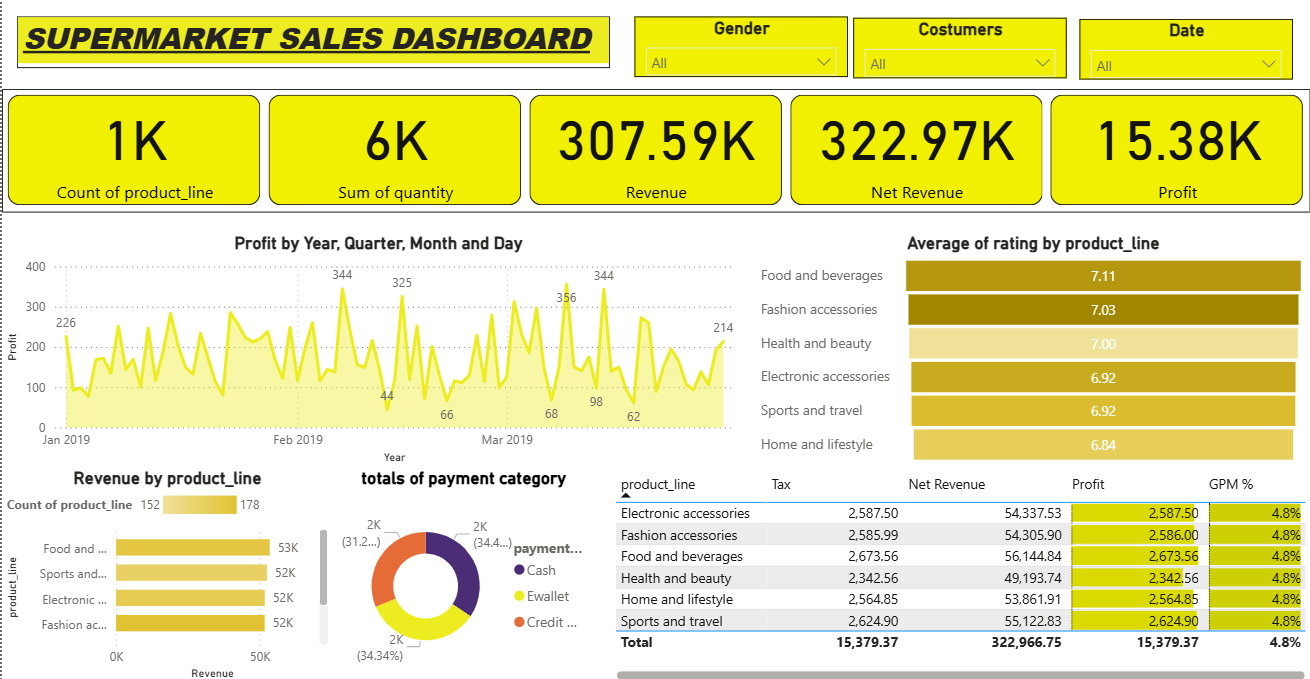

The page's visual inventory and layout, read from the dashboard file:
{"tool":"powerbi","page":{"name":"Page 1","canvas":[1280,720],"ordinal":0},"visuals":[{"type":"tableEx","fields":{"Values":["supermarket_sales.product_line","supermarket_sales.Tax","supermarket_sales.Net Revenue","supermarket_sales.Profit","supermarket_sales.GPM %"]},"box":[594.2,507.7,686.1,212.7],"z":0},{"type":"actionButton","box":[0,0,100,40],"z":1000},{"type":"donutChart","title":"totals of payment category","fields":{"Y":["Sum(supermarket_sales.quantity)"],"Category":["supermarket_sales.payment_method"]},"box":[323.8,507.7,255.2,212.7],"z":2000},{"type":"barChart","fields":{"Category":["supermarket_sales.product_line"],"Y":["supermarket_sales.Revenue"]},"box":[0,507.7,323.8,212.7],"z":3000},{"type":"areaChart","fields":{"Y":["supermarket_sales.Profit"],"Category":["supermarket_sales.date.Variation.Date Hierarchy.Year","supermarket_sales.date.Variation.Date Hierarchy.Quarter","supermarket_sales.date.Variation.Date Hierarchy.Month","supermarket_sales.date.Variation.Date Hierarchy.Day"]},"box":[0,277.2,736.9,230.5],"z":4000},{"type":"funnel","fields":{"Category":["supermarket_sales.product_line"],"Y":["Avg(supermarket_sales.rating)"]},"box":[736.9,277.2,543.4,230.5],"z":5000},{"type":"cardVisual","fields":{"Data":["CountNonNull(supermarket_sales.product_line)","Sum(supermarket_sales.quantity)","supermarket_sales.Revenue","supermarket_sales.Net Revenue","supermarket_sales.Profit"]},"box":[0,137.2,1280.3,120.8],"z":6000},{"type":"slicer","title":"Gender","fields":{"Values":["supermarket_sales.gender_customer"]},"box":[618.9,65.9,208.6,59],"z":7000},{"type":"slicer","title":"Costumers","fields":{"Values":["supermarket_sales.customer_type"]},"box":[832.9,67.2,208.6,59],"z":8000},{"type":"slicer","title":"Date","fields":{"Values":["supermarket_sales.date.Variation.Date Hierarchy.Month"]},"box":[1053.9,68.6,208.6,59],"z":9000},{"type":"textbox","title":"SUPERMARKET SALES DASHBOARD","box":[14.7,67.3,579.6,50.1],"z":9001}]}

Visuals, with their boxes on the page's 1280x720 design canvas (x1, y1, x2, y2). These are canvas units, not pixel positions in the 1310x679 screenshot, which may show the page scaled, cropped or inside an application window:
tableEx - supermarket_sales.product_line x supermarket_sales.Tax: [594, 508, 1280, 720]
actionButton: [0, 0, 100, 40]
"totals of payment category" donutChart: [324, 508, 579, 720]
barChart - supermarket_sales.product_line x supermarket_sales.Revenue: [0, 508, 324, 720]
areaChart - supermarket_sales.Profit x supermarket_sales.date.Variation.Date Hierarchy.Year: [0, 277, 737, 508]
funnel - supermarket_sales.product_line x Avg(supermarket_sales.rating): [737, 277, 1280, 508]
cardVisual - CountNonNull(supermarket_sales.product_line) x Sum(supermarket_sales.quantity): [0, 137, 1280, 258]
"Gender" slicer: [619, 66, 828, 125]
"Costumers" slicer: [833, 67, 1042, 126]
"Date" slicer: [1054, 69, 1262, 128]
"SUPERMARKET SALES DASHBOARD" textbox: [15, 67, 594, 117]
